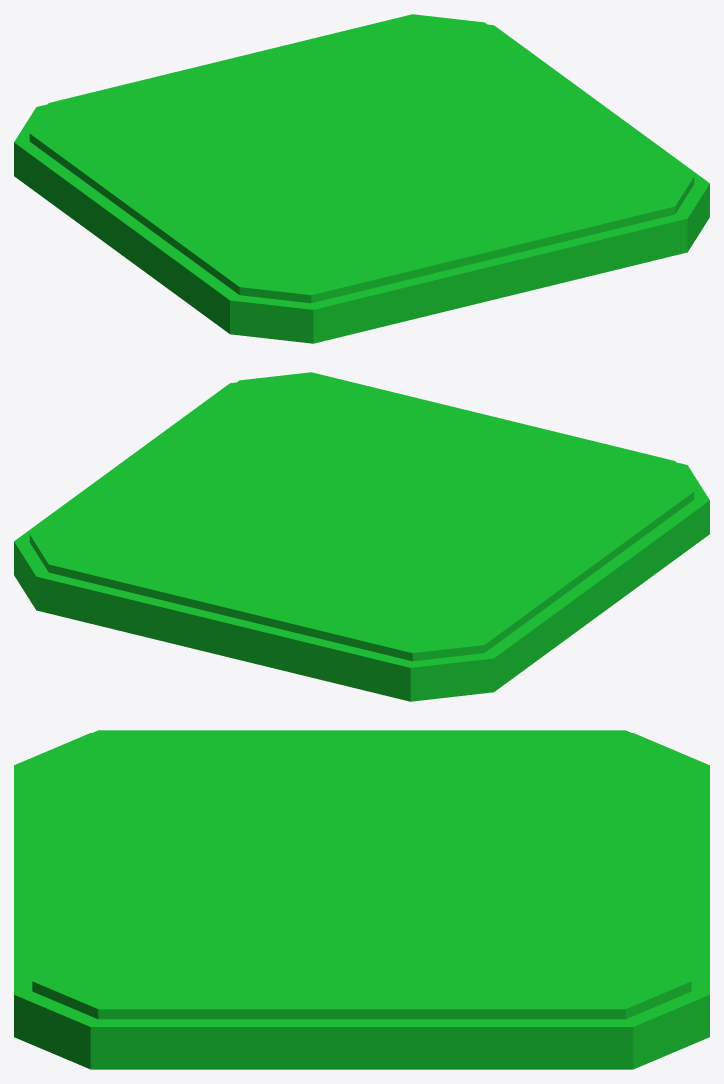
File: deco_coaster.fbx
3 renders of one model, top to bottom at view 1: azimuth 30°, elevation 25°; view 2: azimuth 150°, elevation 25°; view 3: azimuth 270°, elevation 25°, orthographic. The views are drawn at different scales.
Parts seen in each view (by area): view 1: coaster; view 2: coaster; view 3: coaster.
Part boxes in pixels (box(x1,y1,x2,y2)): coaster: box(14, 14, 709, 343); coaster: box(14, 372, 709, 701); coaster: box(14, 730, 709, 1069).
Size of the model in its own units: 13.32 by 1.11 by 13.32.
